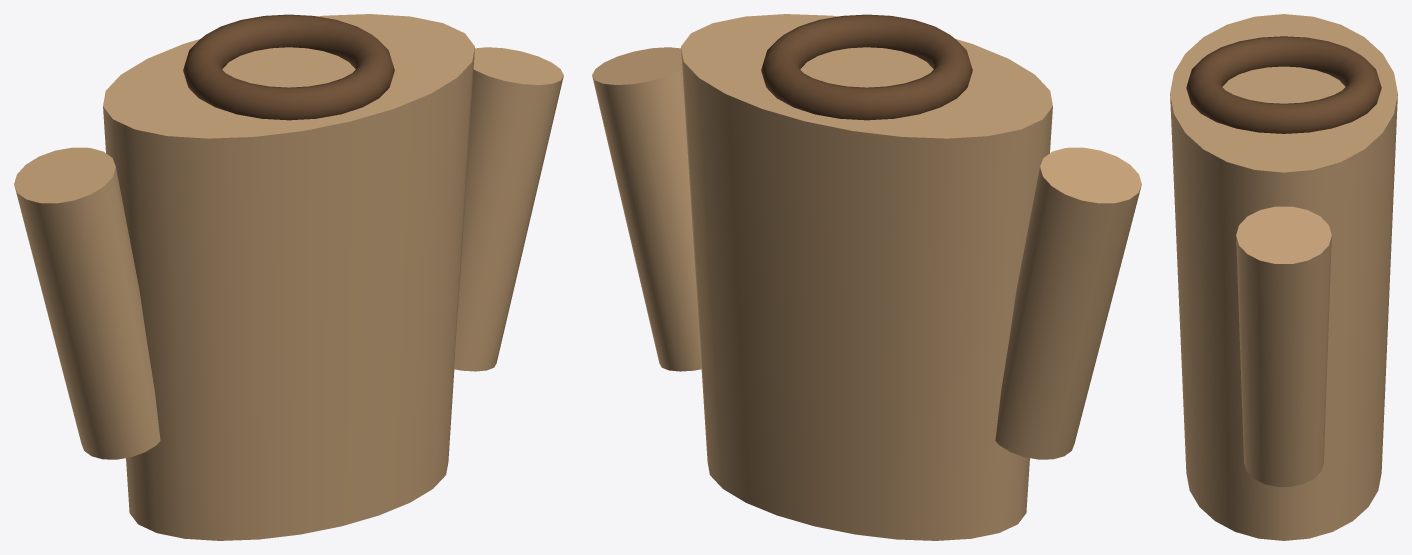
File: toko3_trench_trench_3d_model_74330.glb
The picture shows the model from 3 angles, left to right: view 1: azimuth 30°, elevation 25°; view 2: azimuth 150°, elevation 25°; view 3: azimuth 270°, elevation 25°; orthographic projection. The views are drawn at different scales.
Size of the model in its own units: 1.43 by 1.11 by 0.5712.
